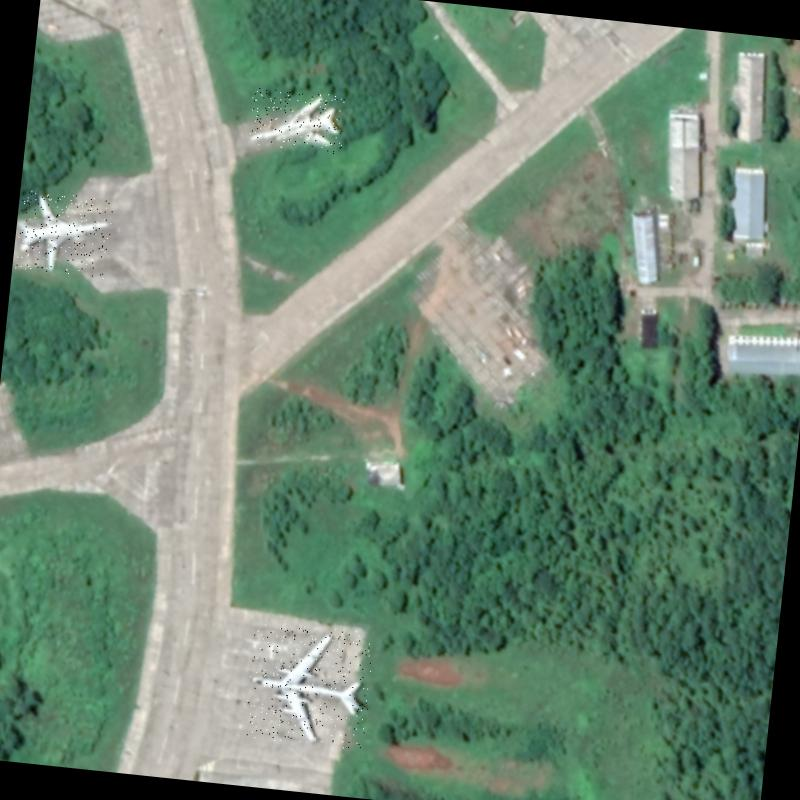A12: (15, 189, 114, 278), (246, 86, 346, 154)
A17: (242, 620, 376, 750)
